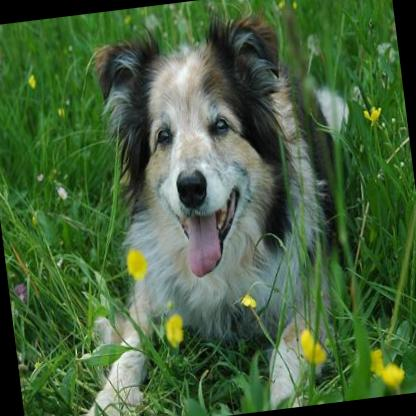Border_collie: (32, 0, 385, 416)
